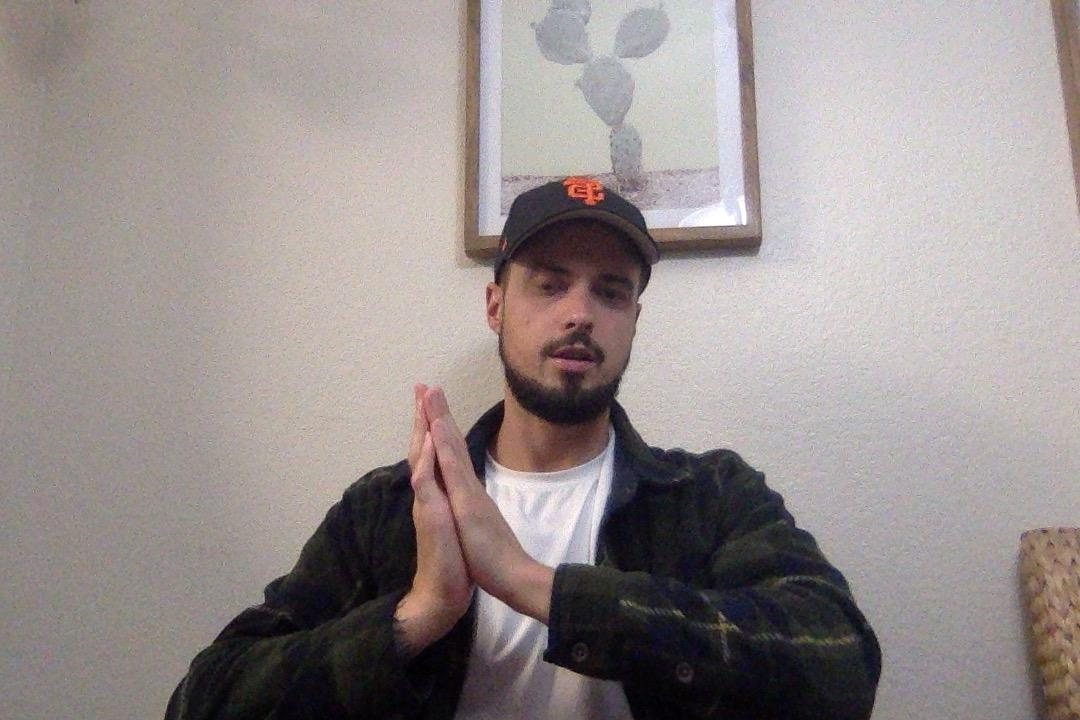Praying-Hands: (398, 367, 527, 637)
